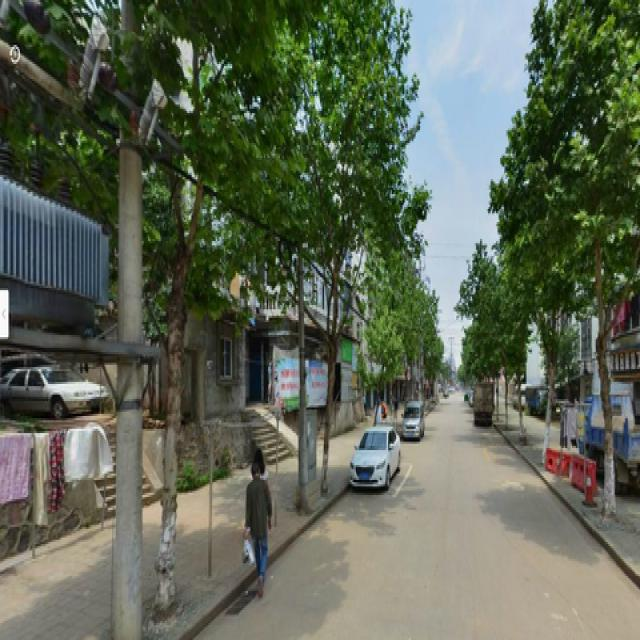meta: (133, 11, 288, 499), (531, 45, 637, 514)
